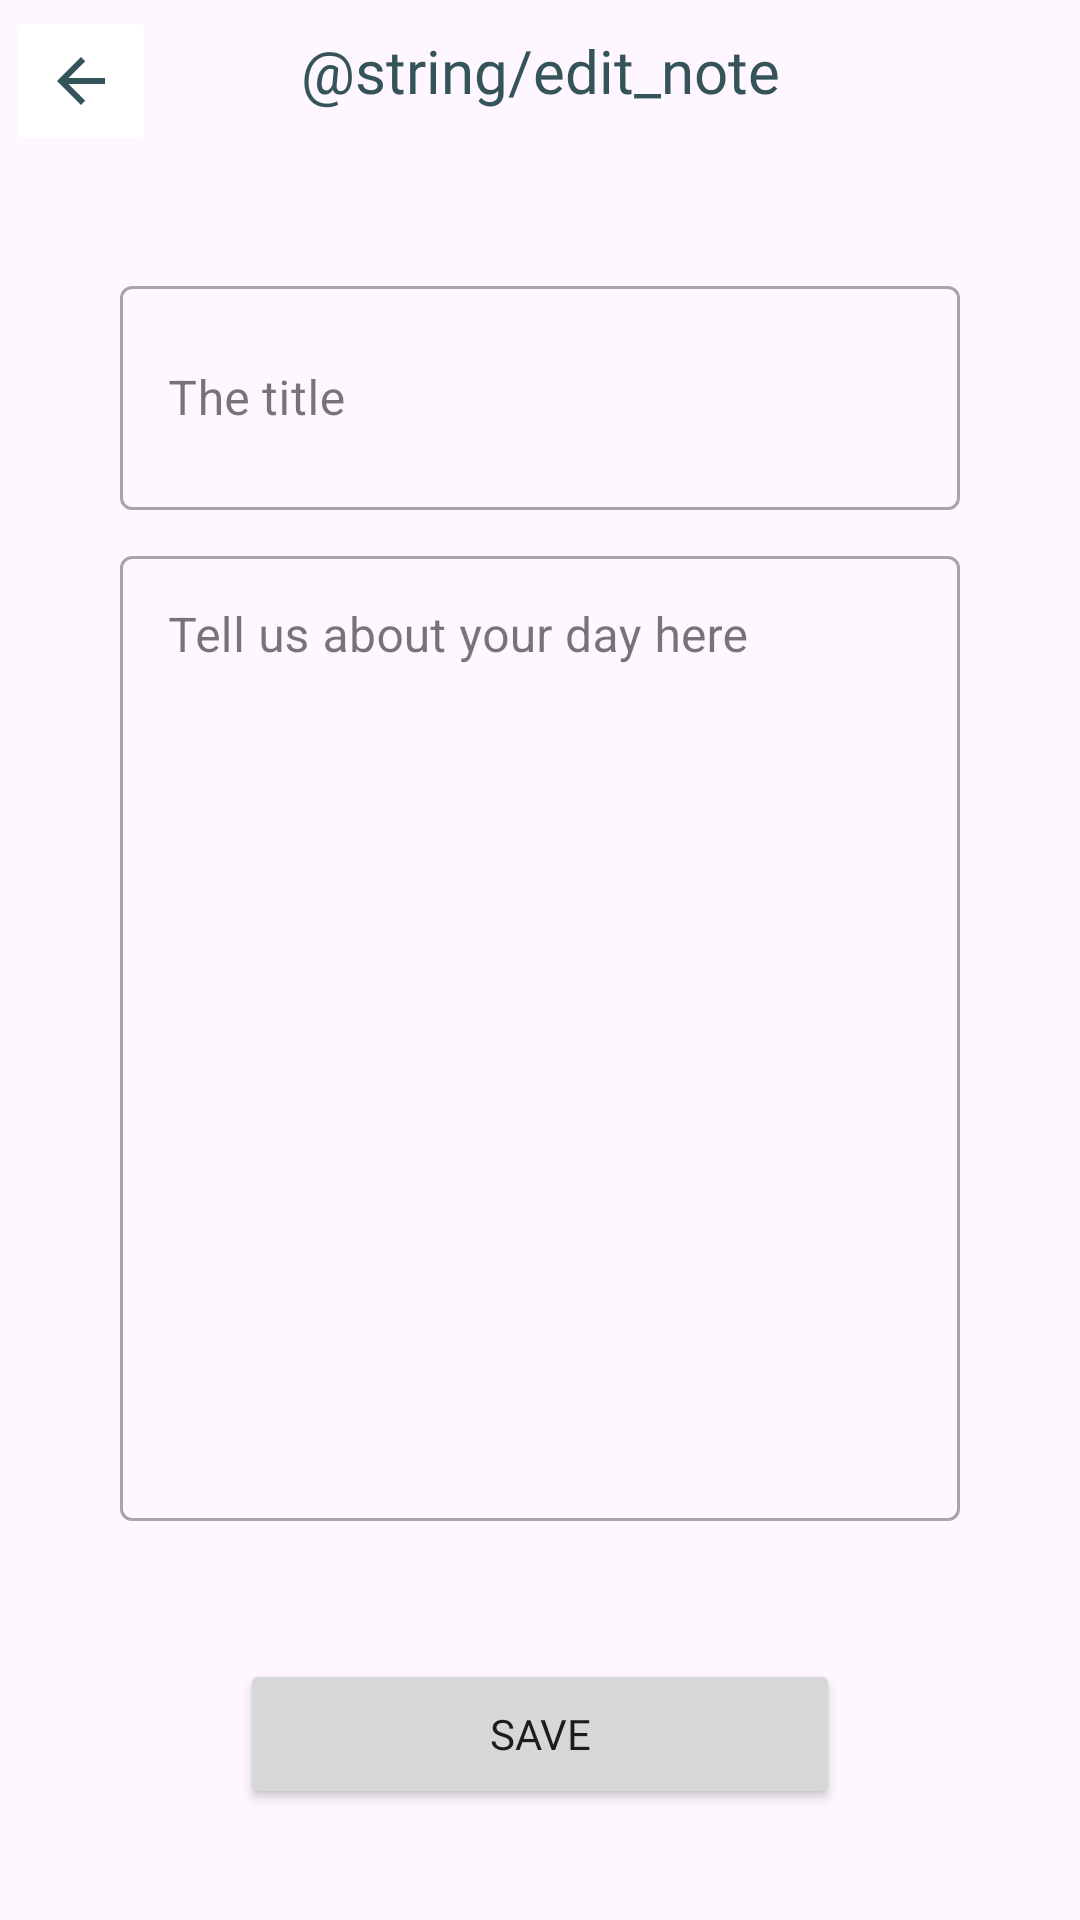

Icon bounding boxes for this 1080×1920 phone screenshot, format (x1, y1, x2, y2):
kembali: (57, 57, 105, 105)
